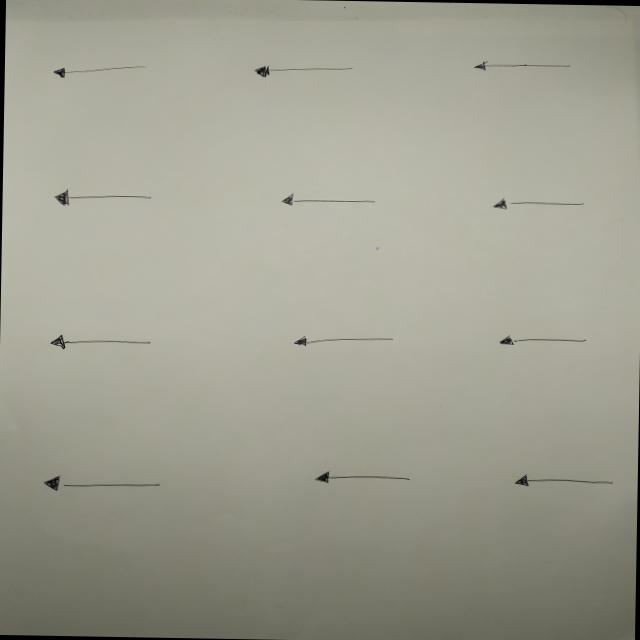arrow_line_left: (34, 50, 163, 90), (32, 464, 173, 499), (474, 326, 604, 358), (270, 328, 408, 358), (480, 190, 604, 223), (461, 52, 588, 84), (40, 183, 172, 212), (502, 466, 624, 496), (235, 58, 367, 84), (39, 329, 162, 356), (303, 464, 419, 491), (273, 187, 382, 214)
